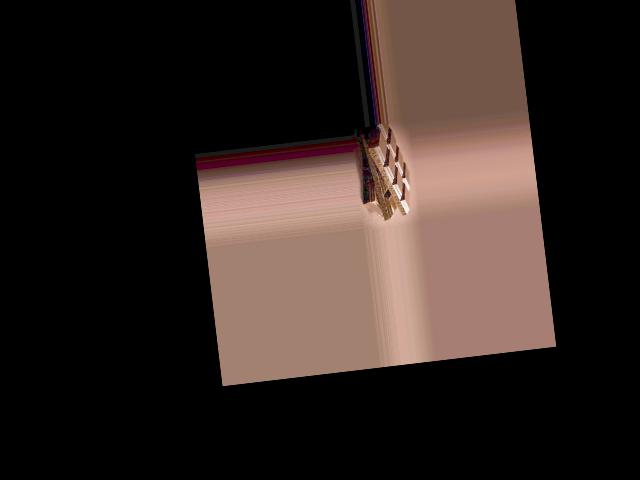chocolate: (360, 124, 413, 221)
